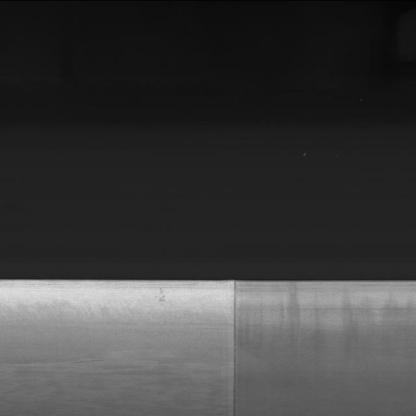welding_line: (224, 282, 243, 413)
